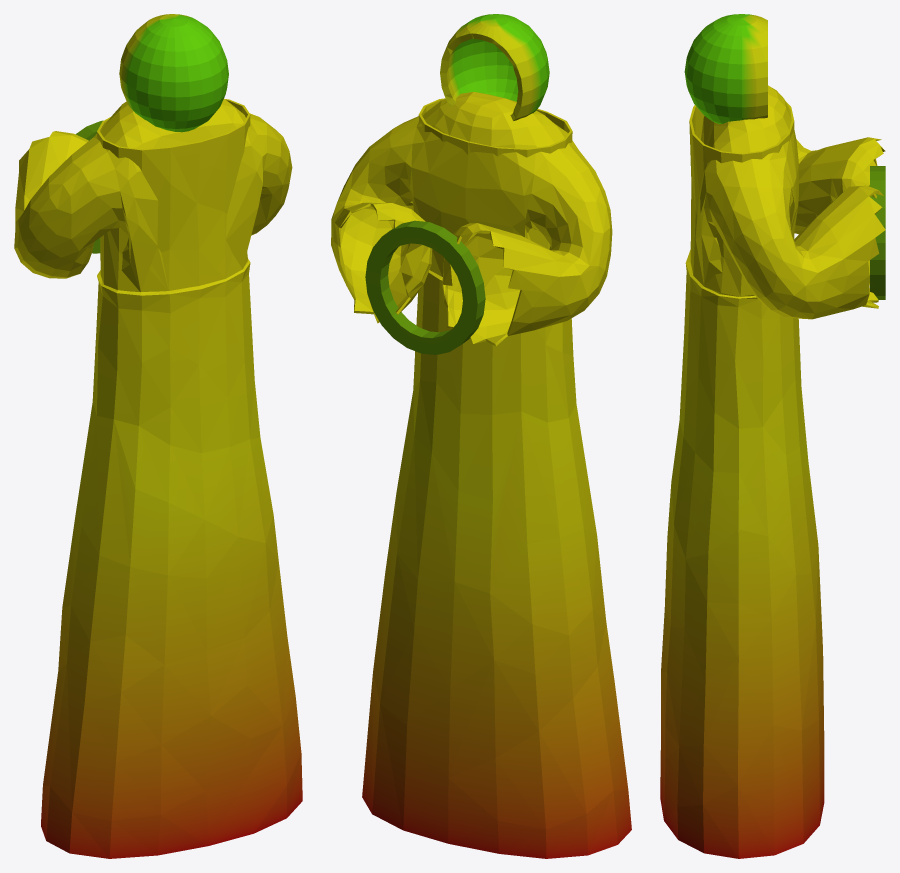
File: statue.glb
3 views of the same model, side by side, from view 1: azimuth 30°, elevation 25°; view 2: azimuth 150°, elevation 25°; view 3: azimuth 270°, elevation 25° (orthographic).
Parts seen in each view (by area): view 1: statue; view 2: statue; view 3: statue.
Part boxes in pixels (<box>): statue: <box>14,14,302,858</box>; statue: <box>331,14,631,858</box>; statue: <box>660,14,885,858</box>.
Size of what is drawn, in the model's own units: 1.6 by 4.6 by 1.2.
